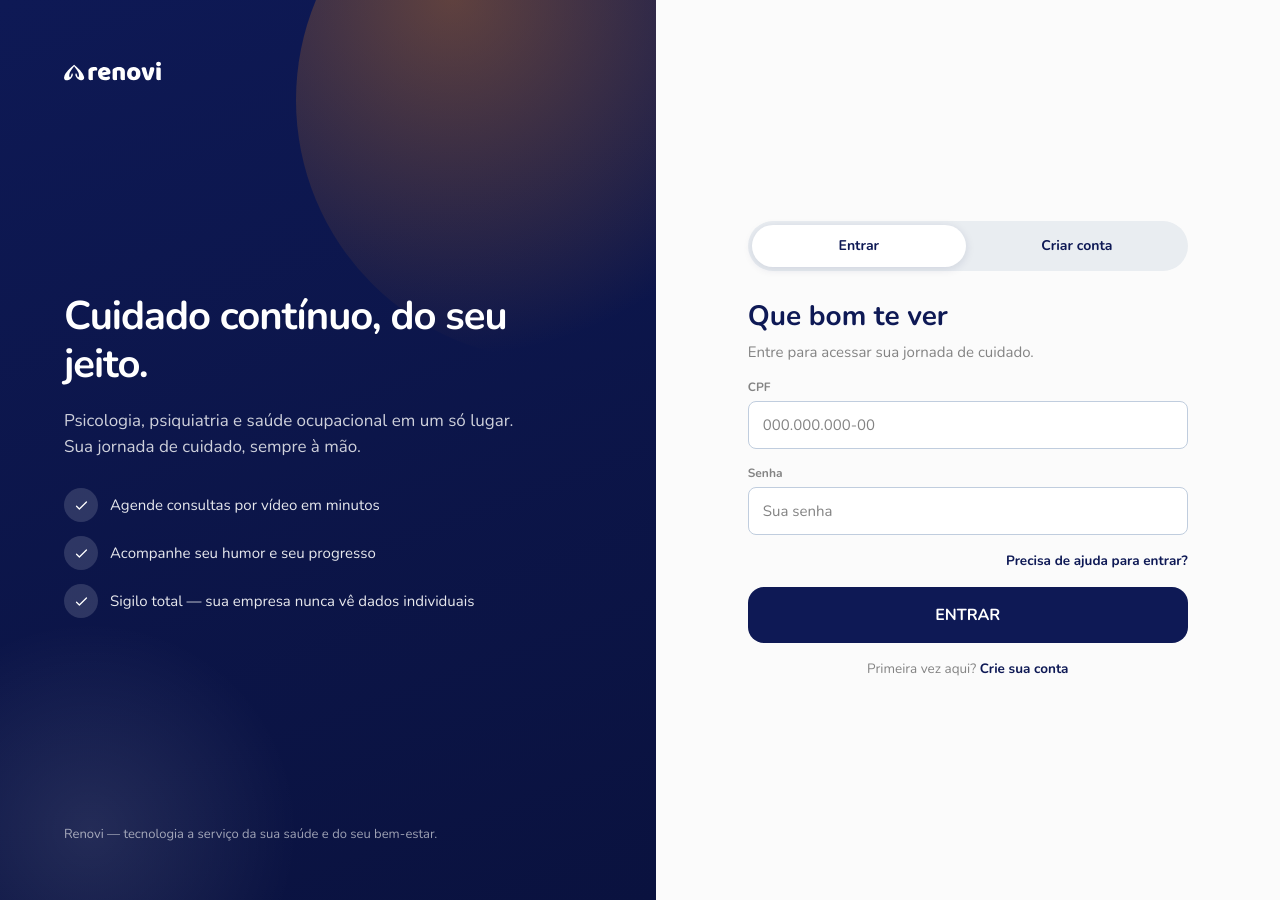
LoginPage › mostra a mensagem de erro de credencial em role="alert"
Type "94819089846" into the field labelled "CPF".
click(968, 425); type("94819089846")  # box [748,401,1188,449]
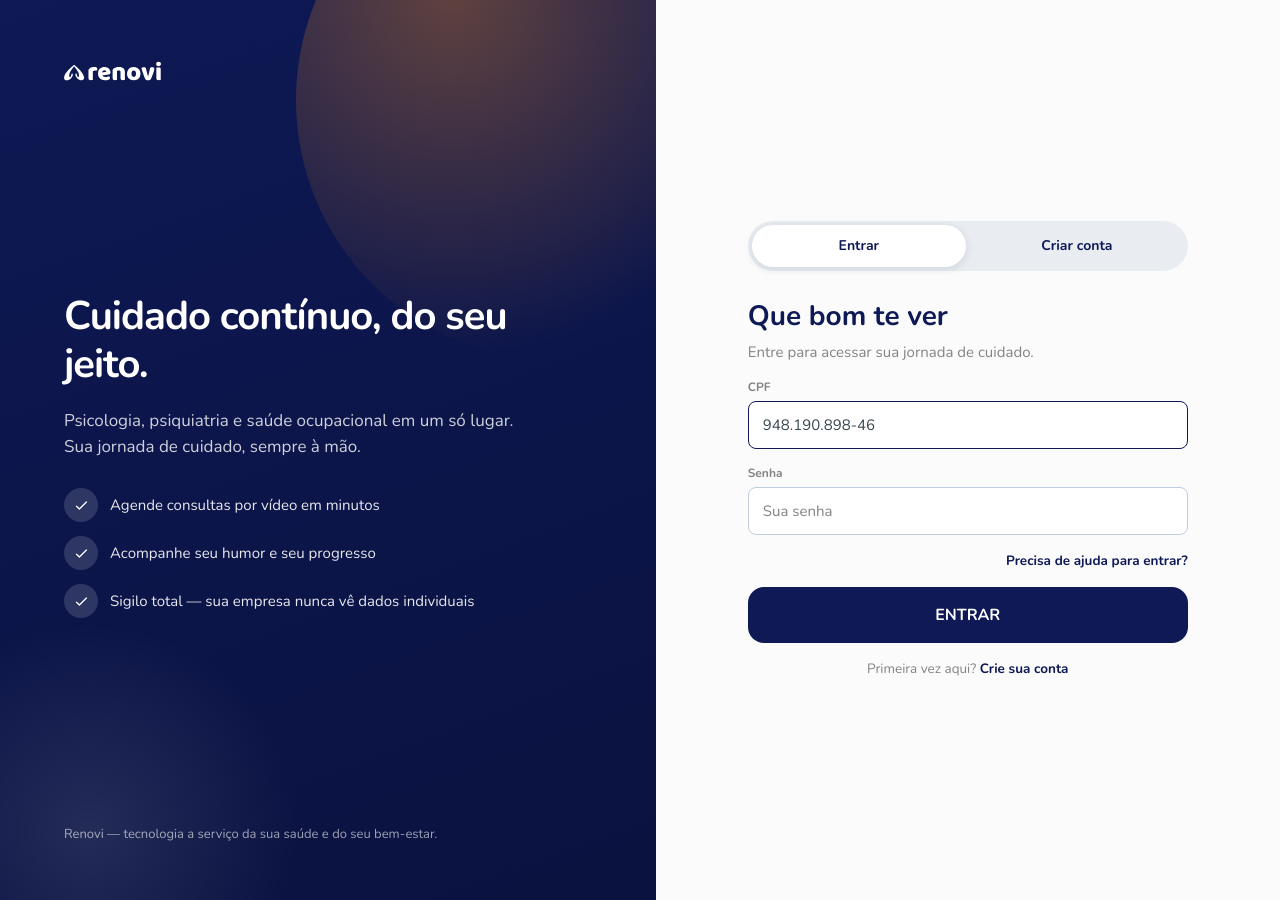
Type "senha-qualquer-longa" into the password field labelled "Senha".
click(968, 511); type("senha-qualquer-longa")  # box [748,487,1188,535]
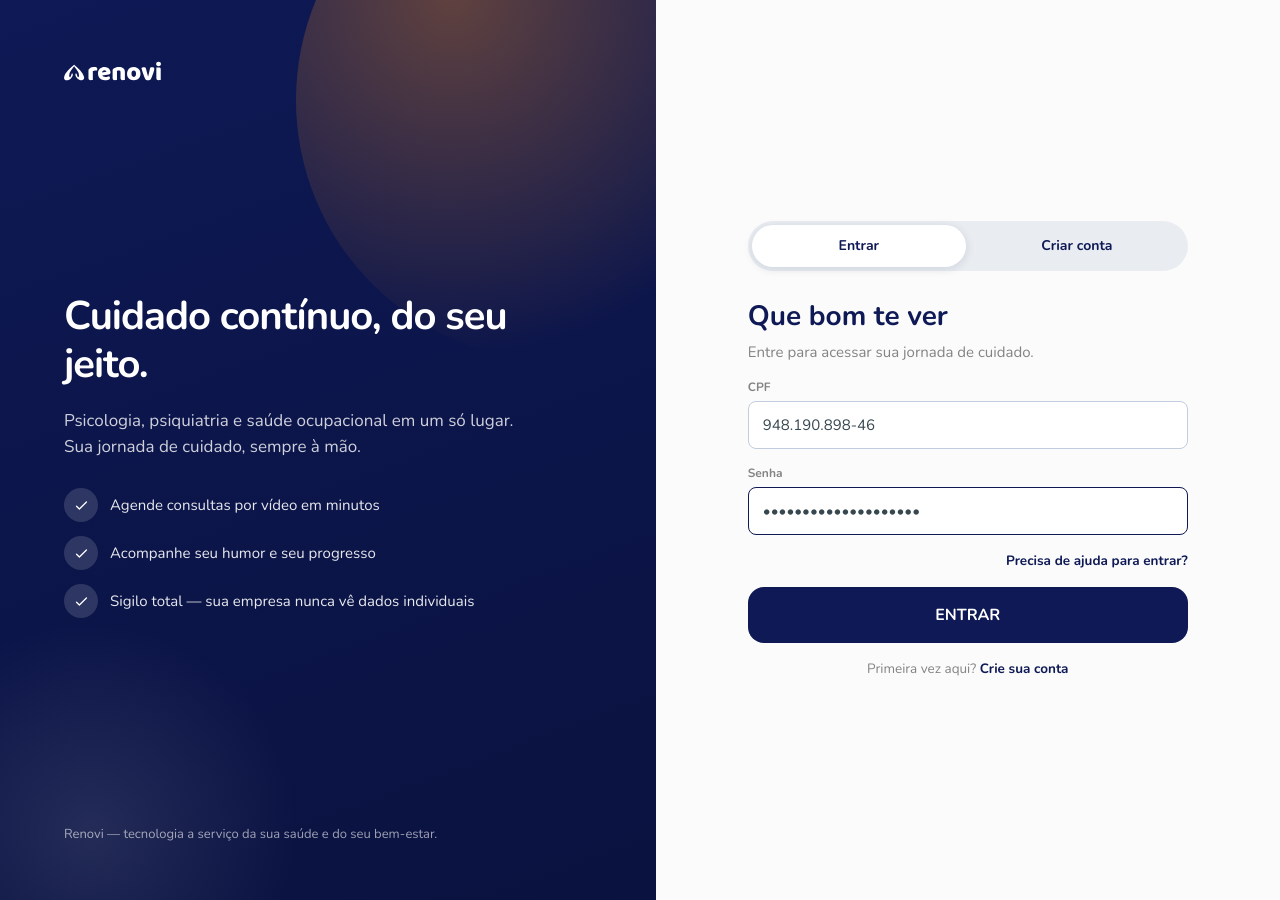
Click the button "Entrar".
click(968, 615)  # box [748,587,1188,643]
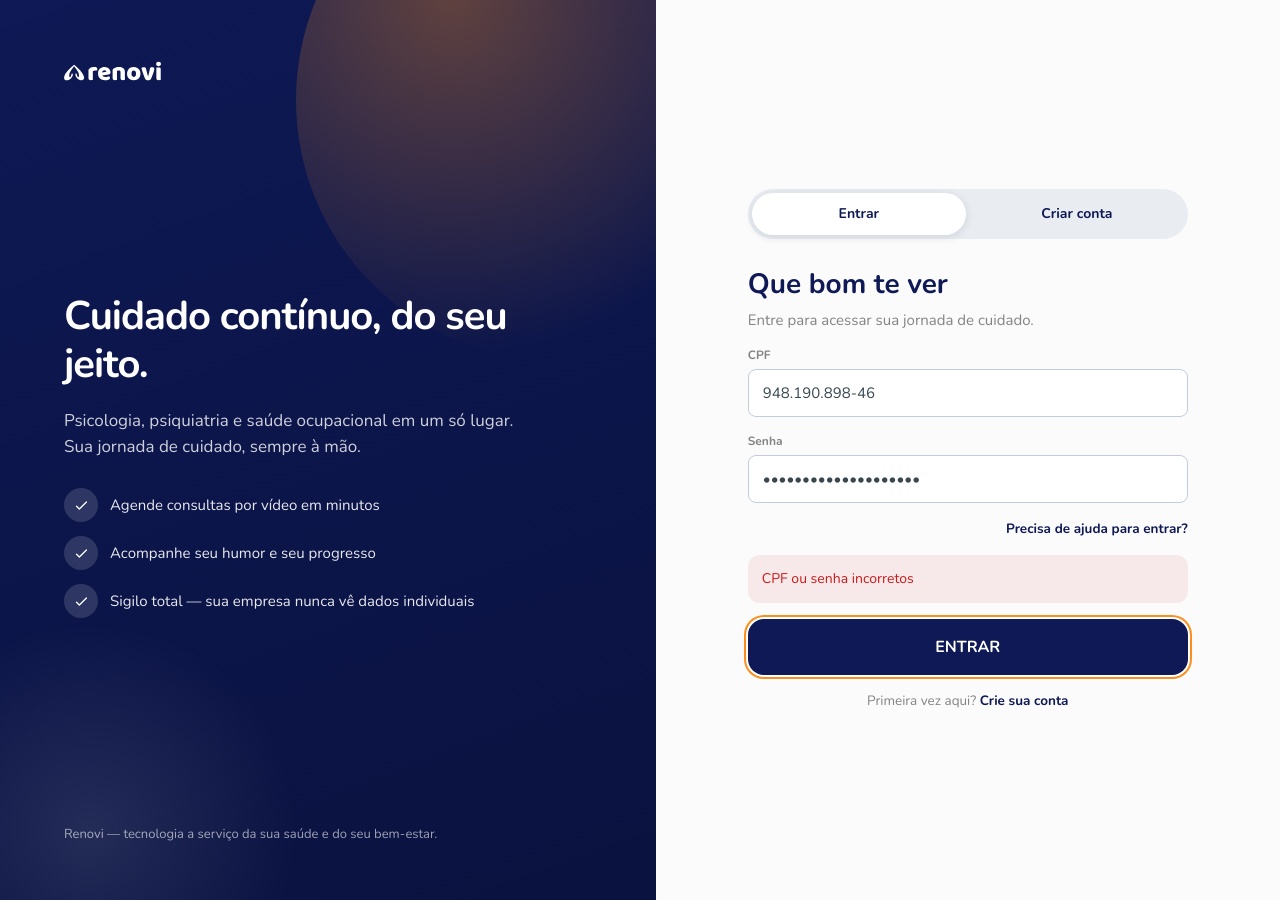
Check: the message reads "CPF ou senha incorretos", box [762,569,914,588]
